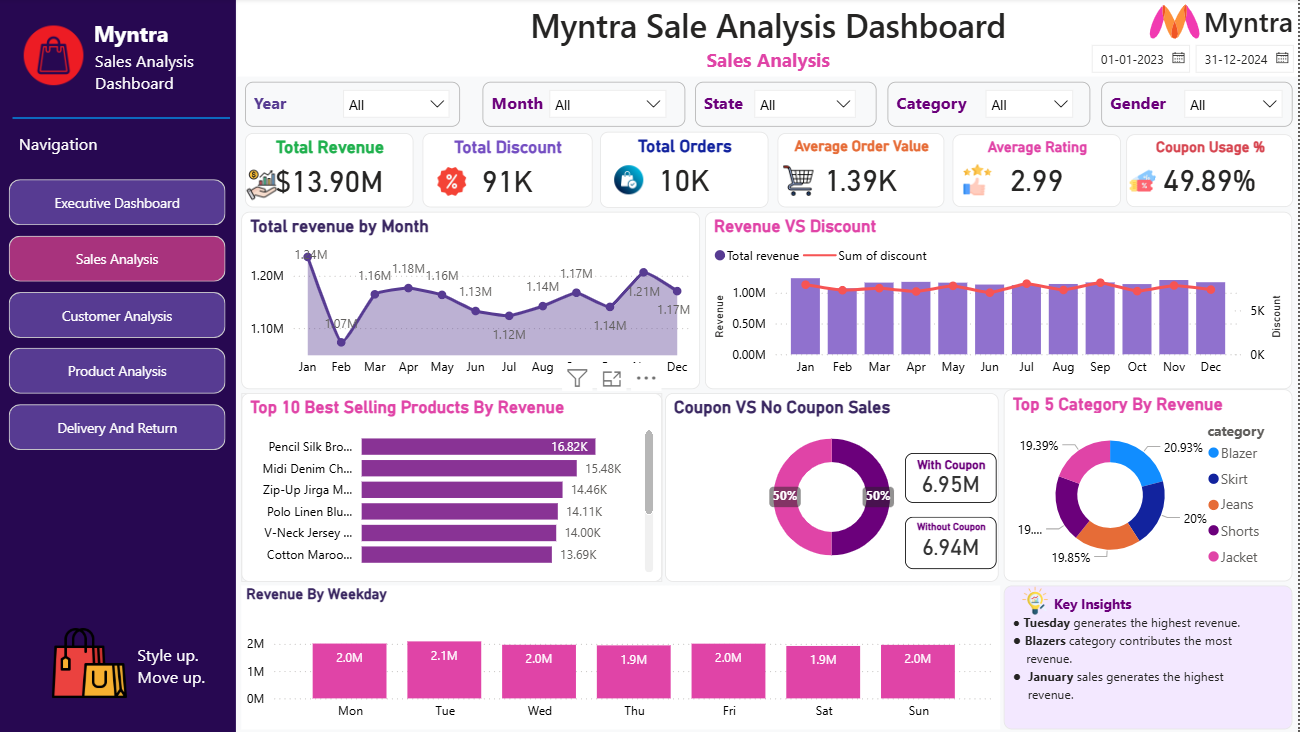

The page's visual inventory and layout, read from the dashboard file:
{"tool":"powerbi","page":{"name":"Sales Analysis","canvas":[1280,720],"ordinal":1},"visuals":[{"type":"shape","box":[8.6,0,232.3,720],"z":0},{"type":"textbox","box":[242.1,0,1038.2,77],"z":1000},{"type":"textbox","box":[61.1,14.7,128.4,41.6],"z":2000},{"type":"textbox","box":[97.8,45.2,118.6,55],"z":3000},{"type":"textbox","box":[23.3,126.2,102.9,49.4],"z":4000},{"type":"textbox","box":[1182.9,0,97.4,45.3],"z":5000},{"type":"image","box":[1114.2,2.7,90.6,42.5],"z":6000},{"type":"slicer","fields":{"Values":["order_clean.order_date"]},"box":[1065.1,35.5,215.2,41.6],"z":7000},{"type":"card","title":"Total Revenue","fields":{"Values":["order_clean.Total revenue"]},"box":[249.7,131.7,164.7,72.7],"z":8000},{"type":"card","title":"Total Discount","fields":{"Values":["Sum(order_clean.discount)"]},"box":[422.6,131.7,166,72.7],"z":9000},{"type":"card","title":"Average Order Value","fields":{"Values":["order_clean.AOV"]},"box":[769.8,131.7,163.3,72.7],"z":10000},{"type":"card","title":"Total Orders","fields":{"Values":["order_clean.Total Orders"]},"box":[596.9,130.4,164.7,74.1],"z":11000},{"type":"card","title":"Average Rating","fields":{"Values":["order_clean.Average rating"]},"box":[941.3,133.1,164.7,71.4],"z":12000},{"type":"card","title":"Coupon Usage %","fields":{"Values":["order_clean.Coupon Usage %"]},"box":[1111.5,133.1,163.3,71.4],"z":13000},{"type":"lineChart","fields":{"Y":["order_clean.Total revenue"],"Category":["Date_table.Month"]},"box":[245.8,209.1,448.8,173.6],"z":14000},{"type":"clusteredBarChart","title":"Top 10 Best Selling Products By Revenue","fields":{"Category":["products_clean.product_name"],"Y":["order_clean.Total revenue"]},"box":[245.8,386.4,412.1,184.6],"z":15000},{"type":"donutChart","title":"Coupon VS No Coupon Sales","fields":{"Category":["order_clean.Coupon status"],"Y":["order_clean.Total revenue"]},"box":[660.3,386.4,326.5,184.6],"z":16000},{"type":"donutChart","title":"Top 5 Category By Revenue","fields":{"Y":["order_clean.Total revenue"],"Category":["products_clean.category"]},"box":[991.7,382.7,282.5,188.3],"z":17000},{"type":"textbox","title":"Key Insights","box":[991.7,574.7,282.5,140.6],"z":18000},{"type":"image","box":[245.8,167.5,40.4,30.6],"z":19000},{"type":"image","box":[604.1,162.6,41.6,30.6],"z":20000},{"type":"image","box":[770.4,163.9,40.4,29.3],"z":21000},{"type":"image","box":[945.2,162.6,41.6,30.6],"z":22000},{"type":"shape","box":[22,102.7,212.8,29.3],"z":23000},{"type":"textbox","box":[689.7,81.9,177.3,44],"z":24000},{"type":"textbox","box":[481.8,81.9,198.1,44],"z":25000},{"type":"textbox","box":[878,81.9,198.1,44],"z":26000},{"type":"textbox","box":[1087.1,81.9,187.1,44],"z":27000},{"type":"slicer","fields":{"Values":["customer_clean.Gender"]},"box":[1158,79.5,116.2,42.8],"z":28000},{"type":"pageNavigator","box":[18.3,177.3,212.8,267.8],"z":29000},{"type":"slicer","fields":{"Values":["products_clean.category"]},"box":[963.6,79.5,106.4,40.4],"z":30000},{"type":"slicer","fields":{"Values":["customer_clean.state"]},"box":[737.4,79.5,119.8,50.1],"z":31000},{"type":"slicer","fields":{"Values":["Date_table.Month"]},"box":[536.8,79.5,134.5,50.1],"z":32000},{"type":"textbox","box":[249.5,81.9,210.3,44],"z":33000},{"type":"slicer","fields":{"Values":["Date_table.Year"]},"box":[335.1,79.5,124.7,50.1],"z":34000},{"type":"textbox","box":[139.4,626.1,88,94.2],"z":35000},{"type":"image","box":[9.8,26.9,105.2,58.7],"z":36000},{"type":"image","box":[24.5,611.4,145.5,78.3],"z":37000},{"type":"lineClusteredColumnComboChart","title":"Revenue VS Discount","fields":{"Y":["order_clean.Total revenue"],"Y2":["Sum(order_clean.discount)"],"Category":["Date_table.Month"]},"box":[699.5,209.1,574.7,173.6],"z":38000},{"type":"advanceCardE03760C5AB684758B56AA29F9E6C257B","title":"With Coupon","fields":{"mainMeasure":["order_clean.Revenue With Coupon"]},"box":[895.1,445.1,89.3,48.9],"z":39000},{"type":"advanceCardE03760C5AB684758B56AA29F9E6C257B","title":"Without Coupon","fields":{"mainMeasure":["order_clean.Revenue Without Coupon"]},"box":[895.1,507.5,89.3,51.4],"z":40000},{"type":"clusteredColumnChart","title":"Revenue By Weekday","fields":{"Y":["order_clean.Total revenue"],"Category":["Date_table.Day Name"]},"box":[245.8,574.7,742.3,140.6],"z":41000},{"type":"image","box":[1003.9,576,36.7,26.9],"z":42000},{"type":"image","box":[1114,161.4,26.9,34.2],"z":43000},{"type":"image","box":[437.8,163.9,28.1,31.8],"z":44000}]}

Visuals, with their boxes in screenshot pixels (x1, y1, x2, y2), scaled from the page's 1280x720 canvas onto the 1300x732 screenshot:
shape: x1=9, y1=0, x2=245, y2=731
textbox: x1=246, y1=0, x2=1299, y2=78
textbox: x1=62, y1=15, x2=192, y2=57
textbox: x1=99, y1=46, x2=220, y2=102
textbox: x1=24, y1=128, x2=128, y2=179
textbox: x1=1201, y1=0, x2=1299, y2=46
image: x1=1132, y1=3, x2=1224, y2=46
slicer - order_clean.order_date: x1=1082, y1=36, x2=1299, y2=78
"Total Revenue" card: x1=254, y1=134, x2=421, y2=208
"Total Discount" card: x1=429, y1=134, x2=598, y2=208
"Average Order Value" card: x1=782, y1=134, x2=948, y2=208
"Total Orders" card: x1=606, y1=133, x2=773, y2=208
"Average Rating" card: x1=956, y1=135, x2=1123, y2=208
"Coupon Usage %" card: x1=1129, y1=135, x2=1295, y2=208
lineChart - order_clean.Total revenue x Date_table.Month: x1=250, y1=213, x2=705, y2=389
"Top 10 Best Selling Products By Revenue" clusteredBarChart: x1=250, y1=393, x2=668, y2=581
"Coupon VS No Coupon Sales" donutChart: x1=671, y1=393, x2=1002, y2=581
"Top 5 Category By Revenue" donutChart: x1=1007, y1=389, x2=1294, y2=581
"Key Insights" textbox: x1=1007, y1=584, x2=1294, y2=727
image: x1=250, y1=170, x2=291, y2=201
image: x1=614, y1=165, x2=656, y2=196
image: x1=782, y1=167, x2=823, y2=196
image: x1=960, y1=165, x2=1002, y2=196
shape: x1=22, y1=104, x2=238, y2=134
textbox: x1=700, y1=83, x2=881, y2=128
textbox: x1=489, y1=83, x2=691, y2=128
textbox: x1=892, y1=83, x2=1093, y2=128
textbox: x1=1104, y1=83, x2=1294, y2=128
slicer - customer_clean.Gender: x1=1176, y1=81, x2=1294, y2=124
pageNavigator: x1=19, y1=180, x2=235, y2=453
slicer - products_clean.category: x1=979, y1=81, x2=1087, y2=122
slicer - customer_clean.state: x1=749, y1=81, x2=871, y2=132
slicer - Date_table.Month: x1=545, y1=81, x2=682, y2=132
textbox: x1=253, y1=83, x2=467, y2=128
slicer - Date_table.Year: x1=340, y1=81, x2=467, y2=132
textbox: x1=142, y1=637, x2=231, y2=731
image: x1=10, y1=27, x2=117, y2=87
image: x1=25, y1=622, x2=173, y2=701
"Revenue VS Discount" lineClusteredColumnComboChart: x1=710, y1=213, x2=1294, y2=389
"With Coupon" advanceCardE03760C5AB684758B56AA29F9E6C257B: x1=909, y1=453, x2=1000, y2=502
"Without Coupon" advanceCardE03760C5AB684758B56AA29F9E6C257B: x1=909, y1=516, x2=1000, y2=568
"Revenue By Weekday" clusteredColumnChart: x1=250, y1=584, x2=1004, y2=727
image: x1=1020, y1=586, x2=1057, y2=613
image: x1=1131, y1=164, x2=1159, y2=199
image: x1=445, y1=167, x2=473, y2=199
